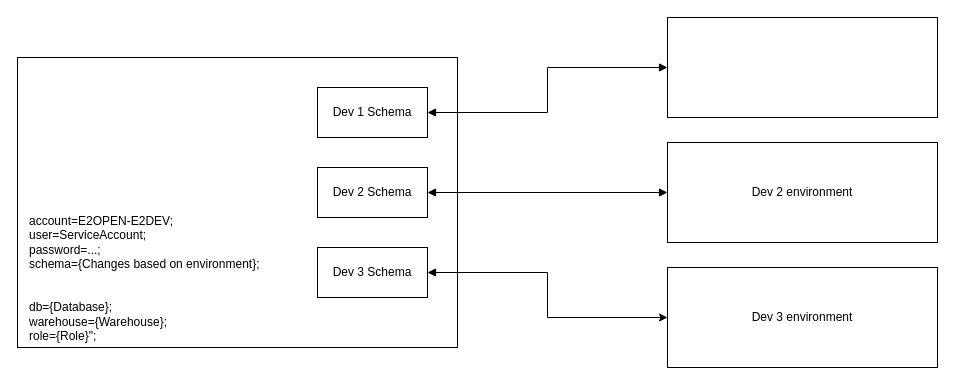
The diagram is 955 pixels wide and 385 high, and some of its shapes have lost their labels. Here are the shapes that lost their labels. From the top down, the box of each, then its label:
(666, 16, 938, 118): Dev 1 environment
(16, 56, 458, 348): Snowflake
